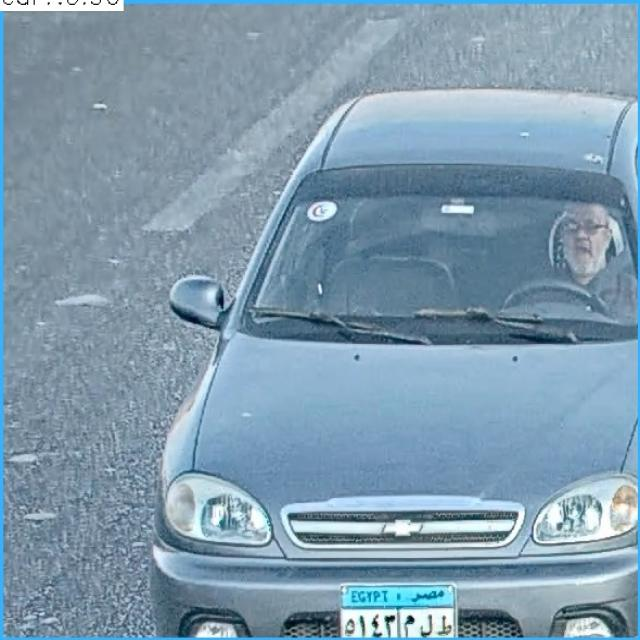windshield: (242, 173, 638, 334)
